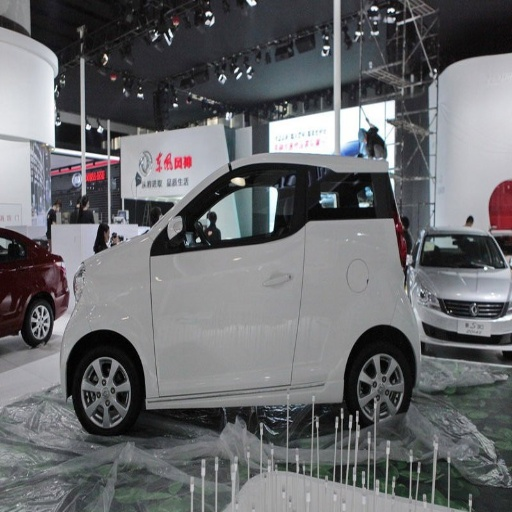back_glass: (182, 1, 311, 71)
back_left_door: (291, 165, 327, 384)
trunk: (324, 258, 366, 369)
